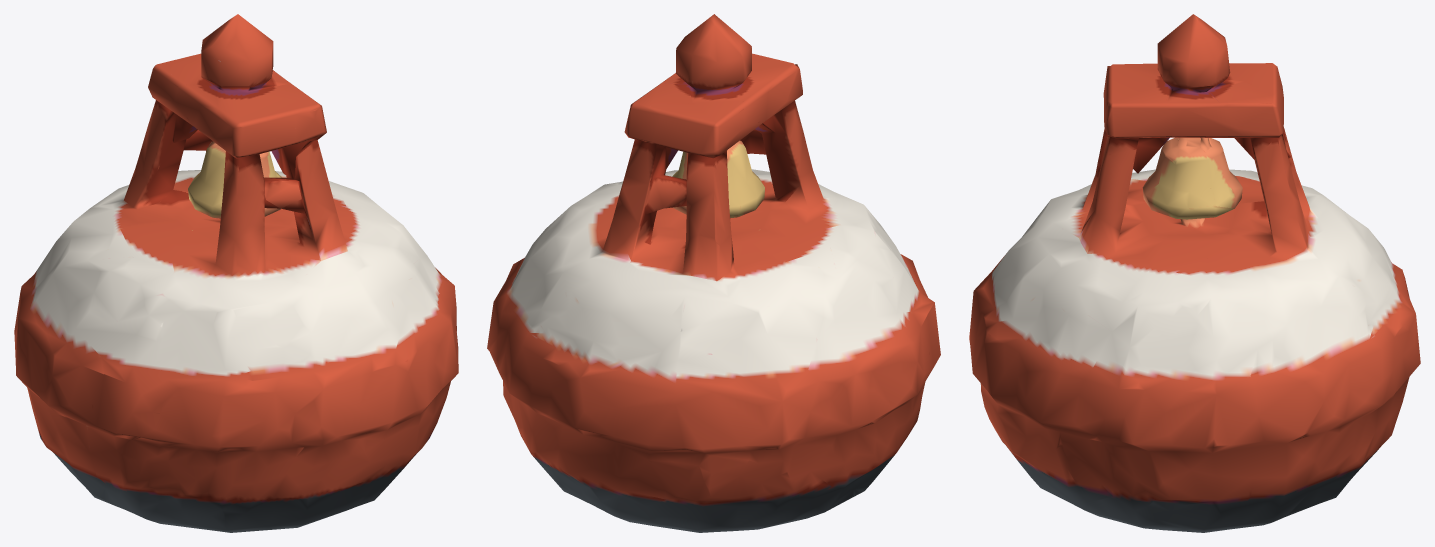
File: buoy.glb
The picture shows the model from 3 angles, left to right: view 1: azimuth 30°, elevation 25°; view 2: azimuth 150°, elevation 25°; view 3: azimuth 270°, elevation 25°; orthographic projection.
Visible parts, largest first — view 1: tripo_node_25e75040-7b9a-4f55-8cde-87dfa33b7833; view 2: tripo_node_25e75040-7b9a-4f55-8cde-87dfa33b7833; view 3: tripo_node_25e75040-7b9a-4f55-8cde-87dfa33b7833.
Part boxes in pixels (x1,y1,x2,y2): tripo_node_25e75040-7b9a-4f55-8cde-87dfa33b7833: (14,14,458,532); tripo_node_25e75040-7b9a-4f55-8cde-87dfa33b7833: (487,14,940,532); tripo_node_25e75040-7b9a-4f55-8cde-87dfa33b7833: (969,14,1420,532).
Size of the model in its own units: 0.8977 by 1 by 0.8939.
Materials: 1 (1 with a texture image).
